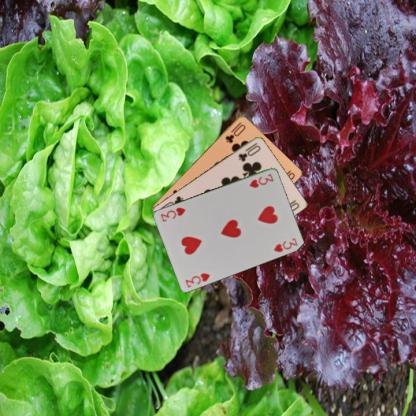10c: (222, 119, 247, 144), (236, 140, 262, 162)
3h: (182, 270, 212, 288), (247, 171, 275, 189)
